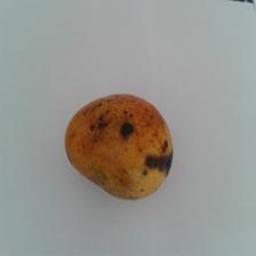Mango Semirotten: (48, 86, 177, 210)
